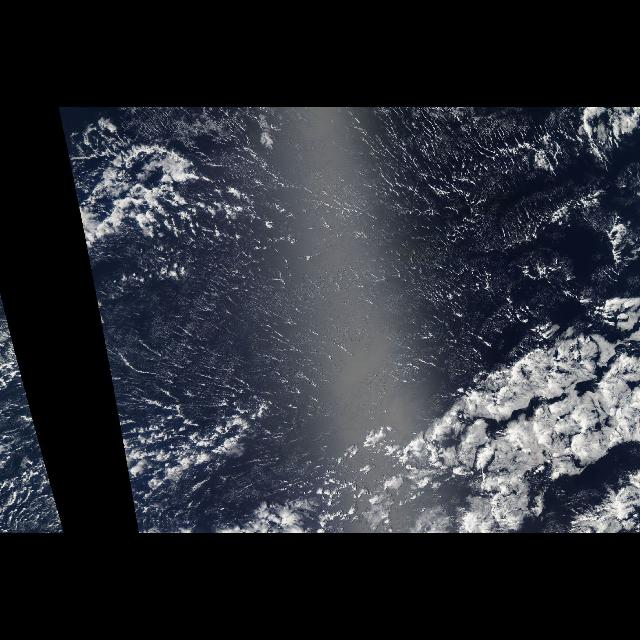Flower: (241, 295, 634, 531)
Gravel: (114, 396, 342, 532), (70, 121, 272, 252)
Sugar: (113, 114, 639, 388)
